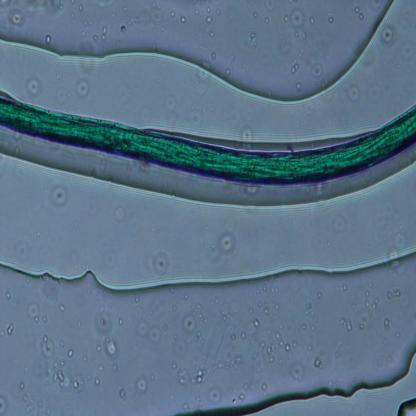Air bubble: (0, 249, 416, 414), (0, 1, 397, 102), (394, 396, 416, 415)
Background material: (38, 334, 85, 396), (206, 348, 242, 378), (170, 360, 204, 388), (262, 332, 291, 360), (136, 316, 163, 346), (93, 302, 115, 336), (0, 3, 28, 28), (214, 228, 238, 256), (388, 224, 410, 253), (195, 65, 214, 97), (230, 381, 254, 406), (48, 182, 70, 209), (24, 300, 48, 324), (160, 86, 180, 114), (380, 25, 401, 50), (100, 336, 121, 360), (132, 370, 150, 398), (22, 74, 42, 99), (284, 8, 306, 30), (148, 0, 166, 26), (188, 104, 206, 130), (288, 359, 306, 382), (364, 285, 380, 310), (152, 254, 170, 276), (182, 313, 198, 336), (357, 309, 372, 333), (42, 0, 65, 15), (171, 331, 187, 352), (74, 77, 89, 99), (190, 302, 206, 322), (245, 29, 260, 50), (300, 100, 317, 118), (111, 205, 127, 223), (348, 83, 360, 107), (94, 24, 108, 44), (81, 54, 95, 74), (386, 282, 402, 299), (333, 215, 348, 232), (307, 66, 325, 80), (340, 316, 354, 334), (242, 122, 253, 144), (208, 388, 223, 403), (313, 356, 327, 372), (264, 0, 280, 14), (115, 18, 127, 36), (293, 29, 309, 42), (227, 330, 241, 344), (304, 301, 316, 317), (0, 394, 9, 415), (290, 60, 302, 75), (202, 10, 214, 25), (131, 15, 141, 32), (333, 280, 347, 292), (250, 314, 260, 330), (383, 316, 392, 332), (355, 7, 366, 19), (300, 319, 310, 331), (4, 320, 12, 335), (250, 350, 260, 362), (326, 14, 338, 23), (22, 391, 31, 403), (177, 12, 186, 24), (306, 338, 313, 353), (20, 377, 28, 390), (306, 16, 316, 26), (221, 66, 231, 76), (43, 32, 52, 43), (195, 331, 204, 342), (4, 288, 11, 302), (260, 380, 268, 392), (92, 377, 102, 386), (26, 406, 35, 416), (95, 364, 106, 372), (208, 28, 215, 40), (212, 50, 219, 62), (58, 302, 67, 311), (263, 303, 271, 313), (262, 14, 269, 25), (294, 80, 301, 91), (171, 302, 179, 311), (276, 322, 284, 331), (253, 10, 260, 20), (168, 7, 174, 18), (134, 296, 142, 304), (181, 292, 189, 300), (68, 350, 76, 358), (256, 364, 262, 374), (163, 319, 168, 331), (273, 302, 280, 310), (318, 290, 324, 299), (262, 283, 268, 292), (241, 332, 247, 340), (257, 300, 262, 308), (119, 319, 123, 324)
Microfibre: (0, 92, 416, 191)
